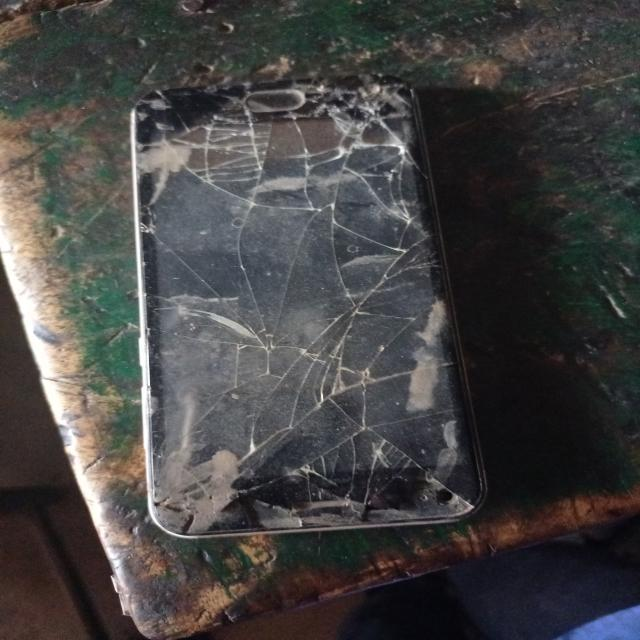screen crack: (109, 85, 499, 542)
